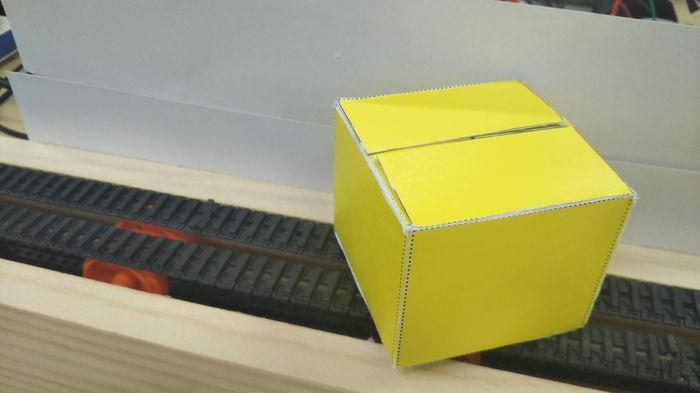box4: (326, 74, 634, 371)
